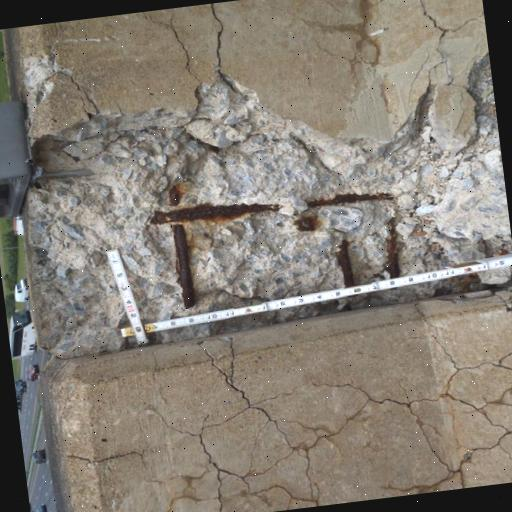spalling: (32, 61, 512, 360)
